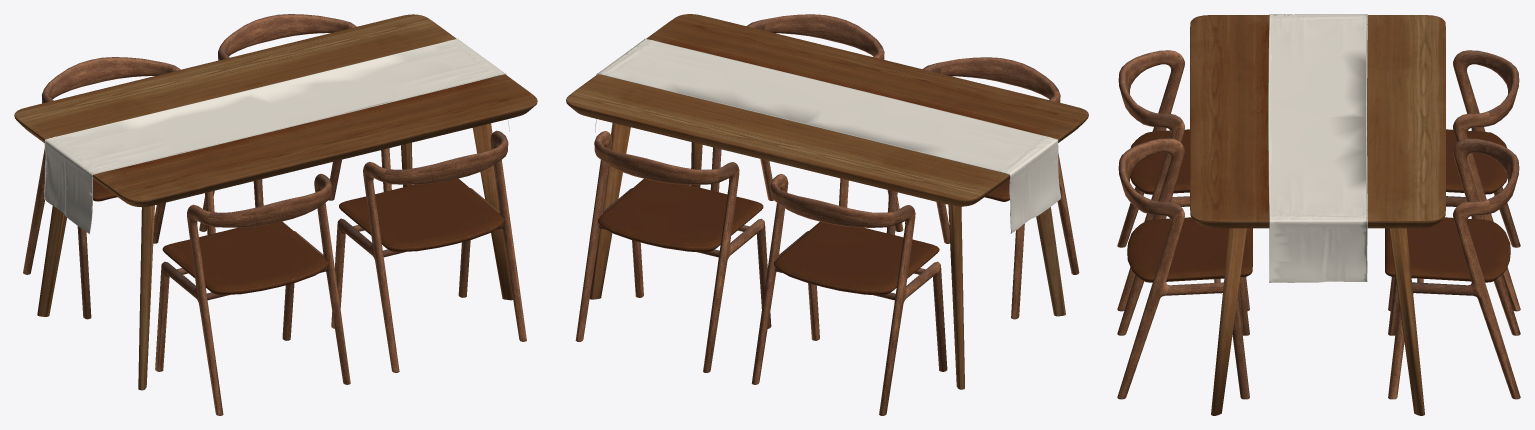
The model's file is bella-3d-walnut-dining-set.glb.
3 renders of one model, left to right at view 1: azimuth 30°, elevation 25°; view 2: azimuth 150°, elevation 25°; view 3: azimuth 270°, elevation 25°, orthographic. The views are drawn at different scales.
Parts seen in each view (by area): view 1: dining-table-and-chairs-part-2, dining-table-and-chairs-part-6, dining-table-and-chairs-part-1; view 2: dining-table-and-chairs-part-6, dining-table-and-chairs-part-2, dining-table-and-chairs-part-1; view 3: dining-table-and-chairs-part-6, dining-table-and-chairs-part-2, dining-table-and-chairs-part-1.
Boxes of the visible parts, x1,y1,x2,y2 form: dining-table-and-chairs-part-2: (23,14,526,415); dining-table-and-chairs-part-6: (14,14,537,390); dining-table-and-chairs-part-1: (44,38,509,234); dining-table-and-chairs-part-6: (566,14,1088,389); dining-table-and-chairs-part-2: (575,14,1079,415); dining-table-and-chairs-part-1: (595,38,1061,233); dining-table-and-chairs-part-6: (1190,15,1445,415); dining-table-and-chairs-part-2: (1117,50,1520,399); dining-table-and-chairs-part-1: (1268,14,1367,282).
Size of the model in its own units: 1.58 by 0.7195 by 1.28.
3 materials, 2 textured.
